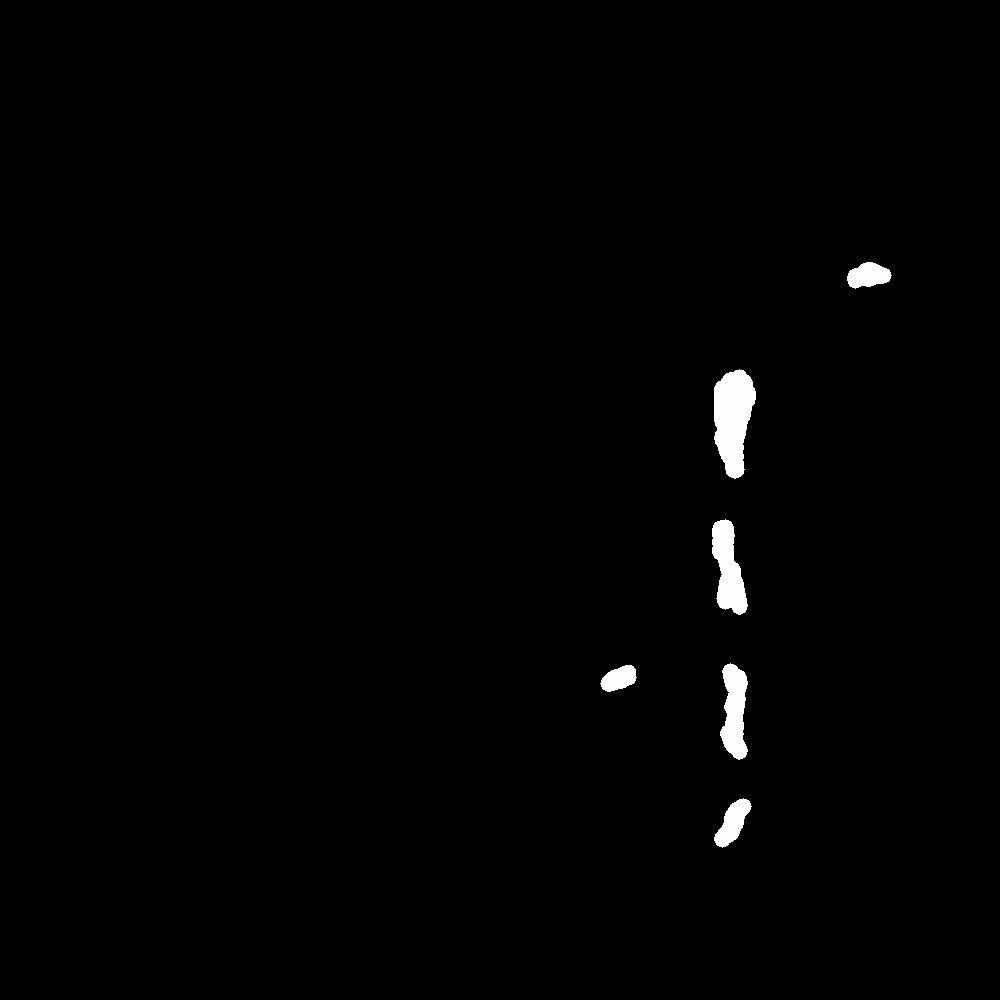illegal: (709, 372, 755, 443), (819, 256, 897, 291), (709, 643, 746, 692), (605, 664, 636, 689)
